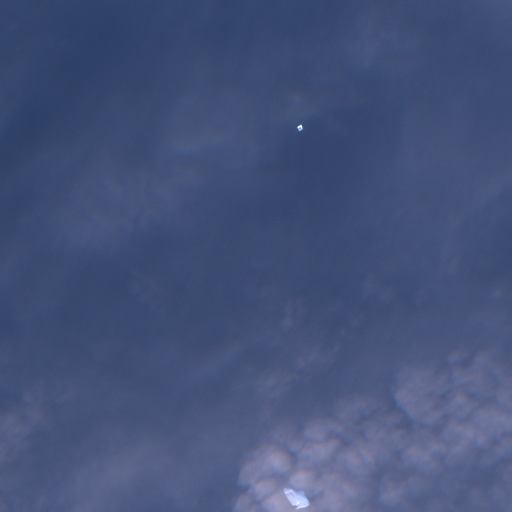Iceberg: (284, 488, 308, 509), (297, 124, 302, 130)
